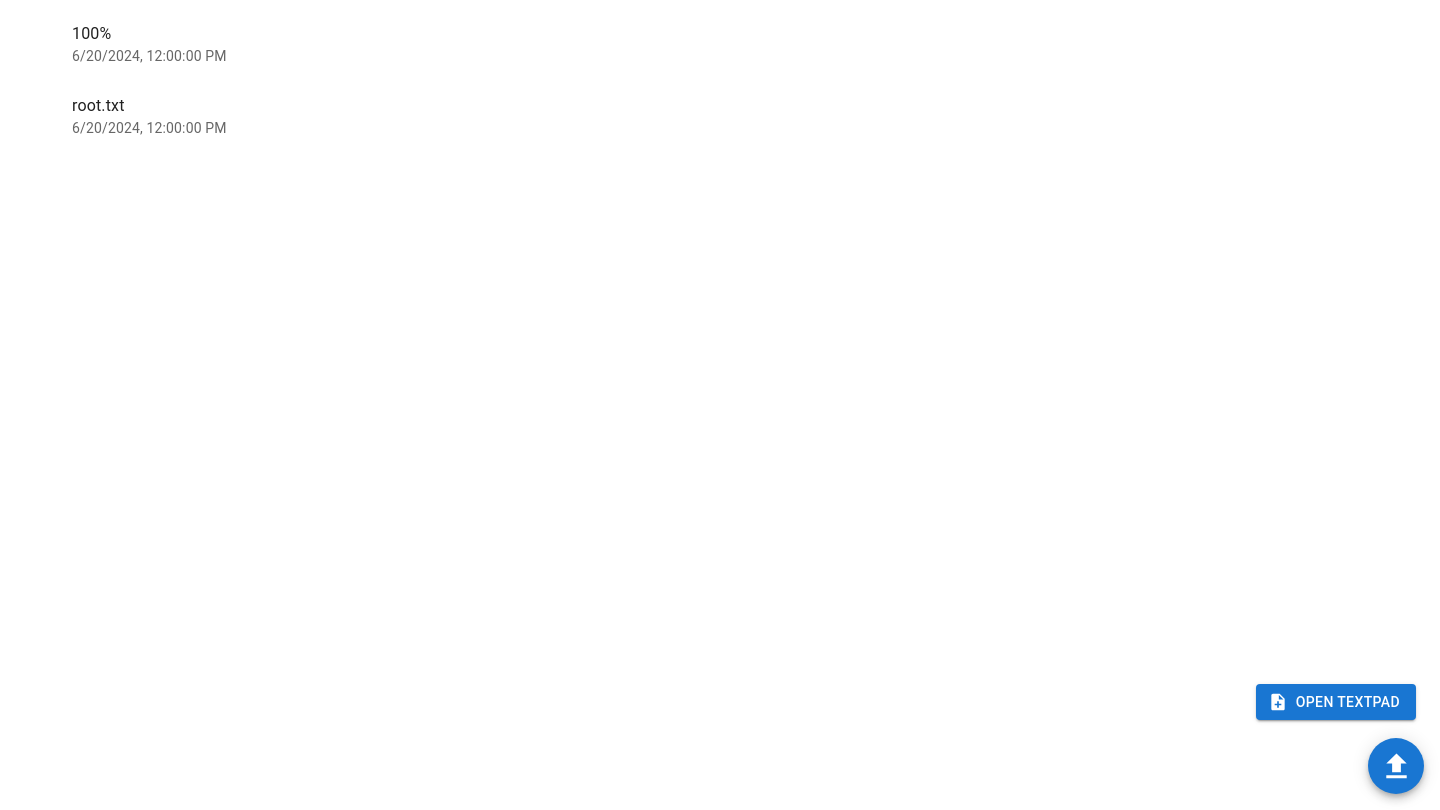
Test: round-trips a folder name containing % through the hash
This screenshot has width=1440, height=810.
Expected: the text "root.txt" is shown, 72,96 -> 125,115
# 进入 "100%" 目录：hash 必须按段编码（% → %25，尾斜杠保留）
What coordinates should you click on to do the following:
click the text "100%"
I would click on:
 (92, 34)
Its box is 72,24 -> 111,43.
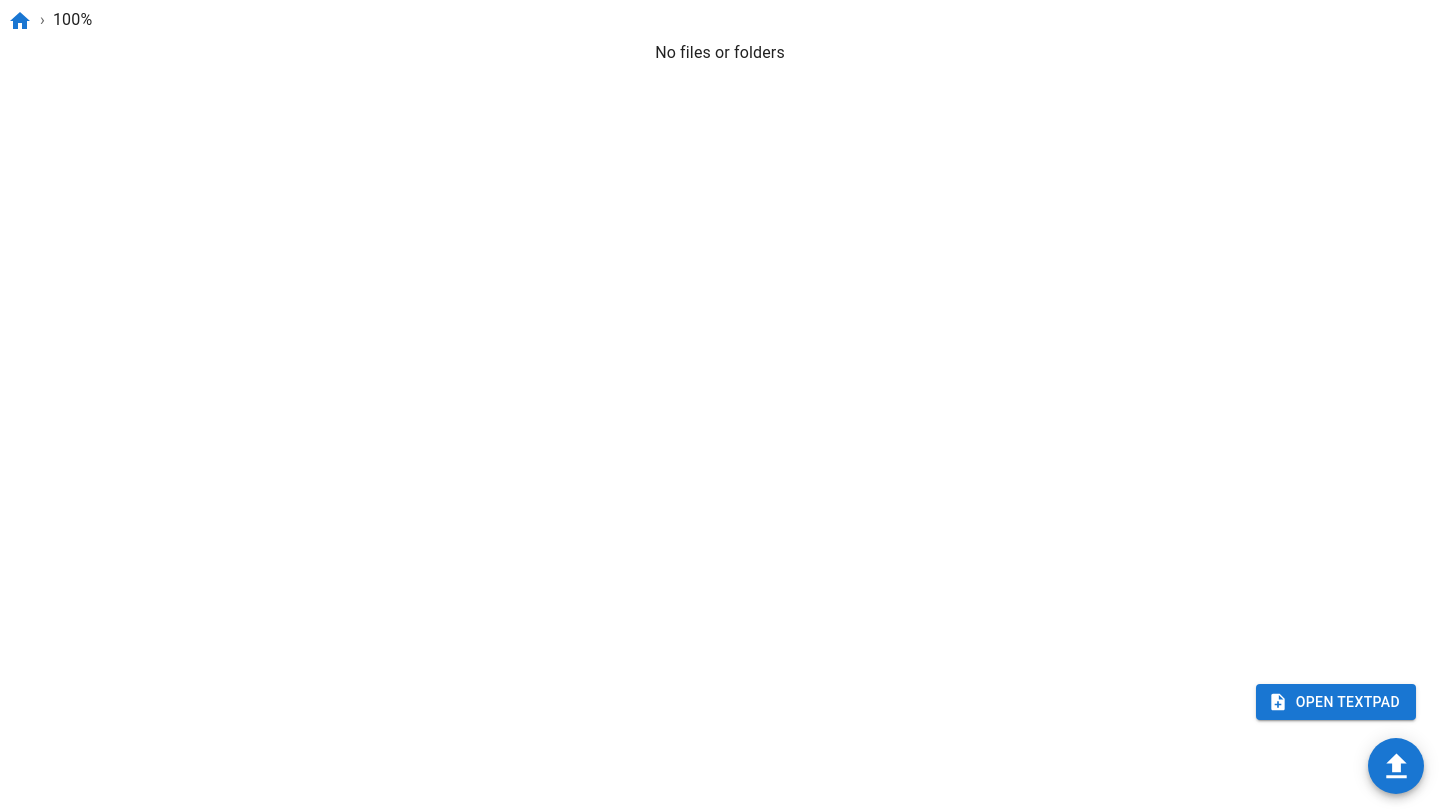
Expected: the text "No files or folders" is shown, 655,43 -> 785,62
